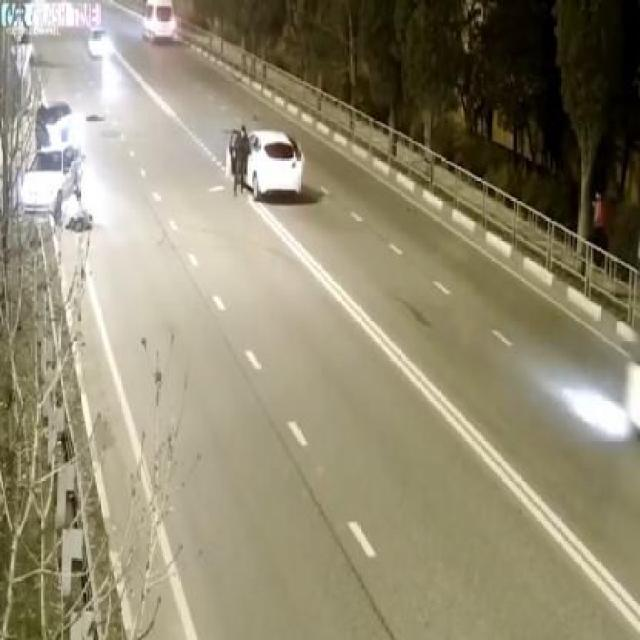accident: (24, 77, 104, 263)
